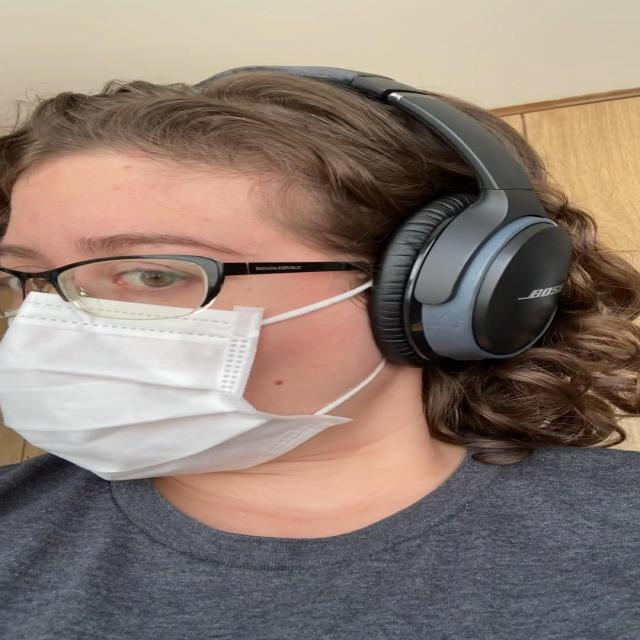no-helmet: (0, 149, 379, 479)
